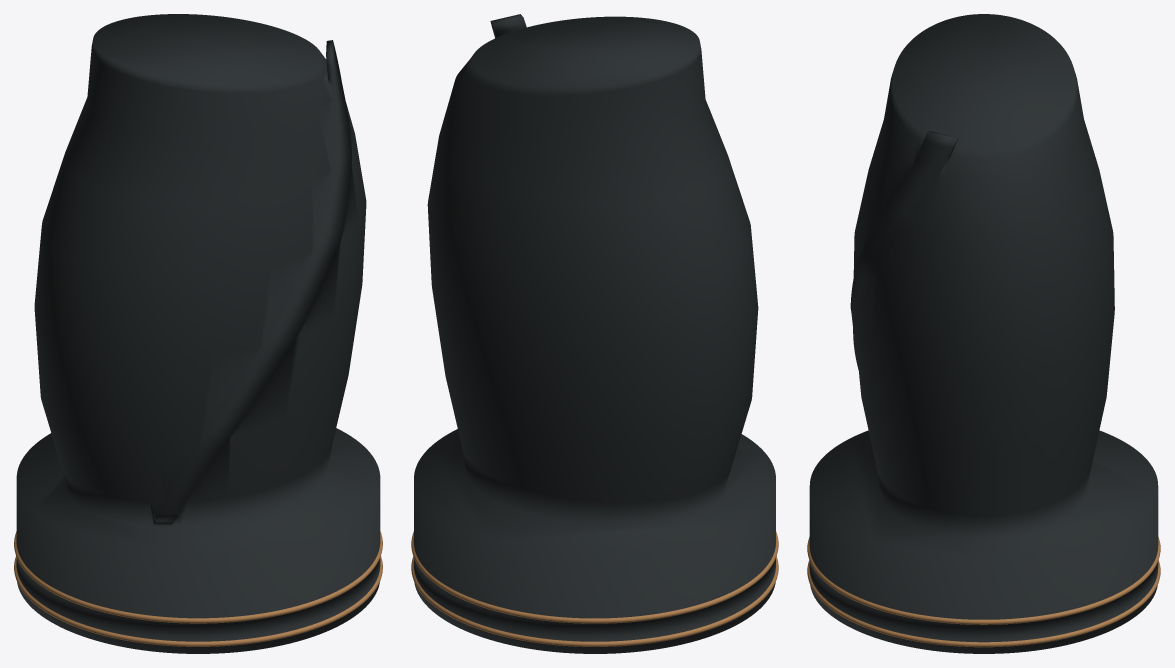
File: Every-Step-Legacy-review.glb
3 views of the same model, side by side, from view 1: azimuth 30°, elevation 25°; view 2: azimuth 150°, elevation 25°; view 3: azimuth 270°, elevation 25° (orthographic). The views are drawn at different scales.
Parts seen in each view (by area): view 1: Vessel shell candidate; view 2: Vessel shell candidate; view 3: Vessel shell candidate.
Boxes of the visible parts, <box> form: Vessel shell candidate: <box>14,14,382,653</box>; Vessel shell candidate: <box>411,14,778,653</box>; Vessel shell candidate: <box>807,14,1160,653</box>.
Bounding box in the file's own units: 171 × 279 × 171.
